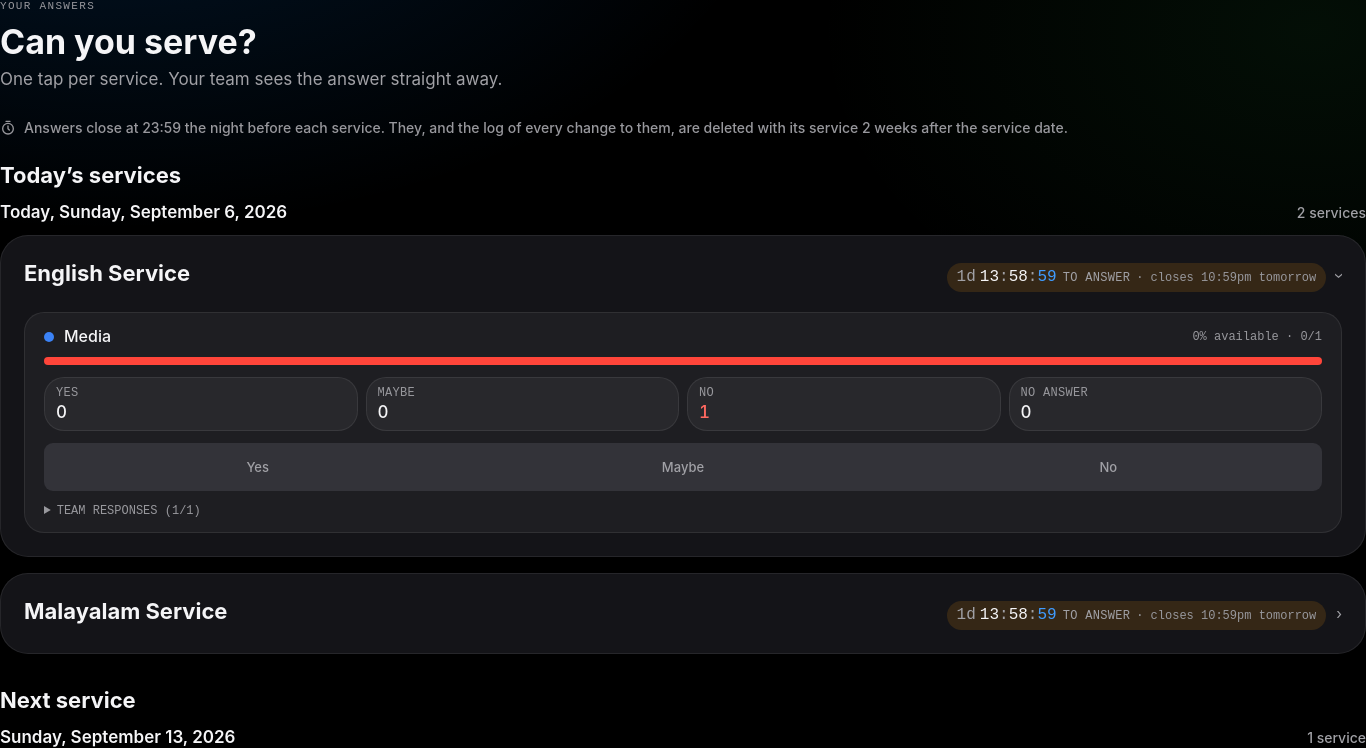
Scenario: the history of somebody’s answer › opens to a Head out of the box, for their own team (0162)
The image size is (1366, 748).
Click the heading "Team responses (1/1)" at {"x": 129, "y": 511}, box x1=57 y1=504 x2=201 y2=518
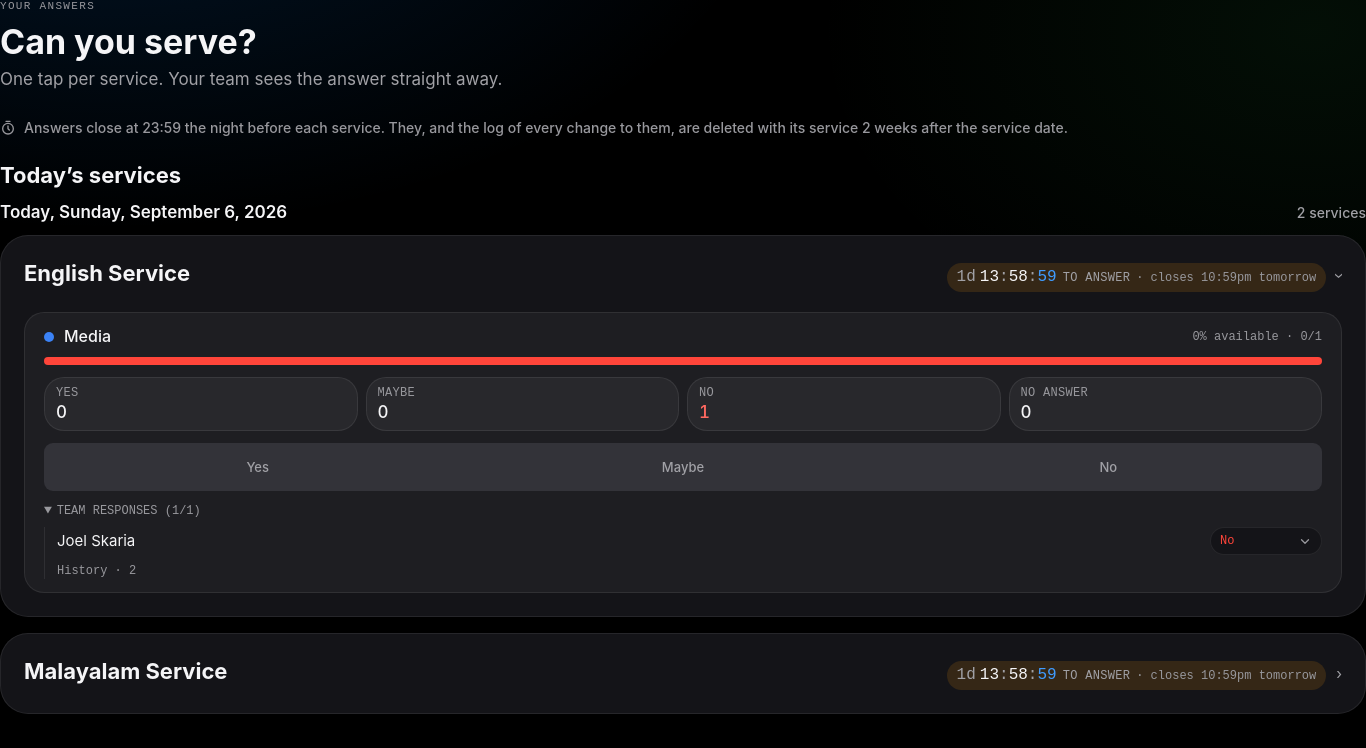
Expected: the button "History · 2" is shown, x1=57 y1=563 x2=136 y2=579
